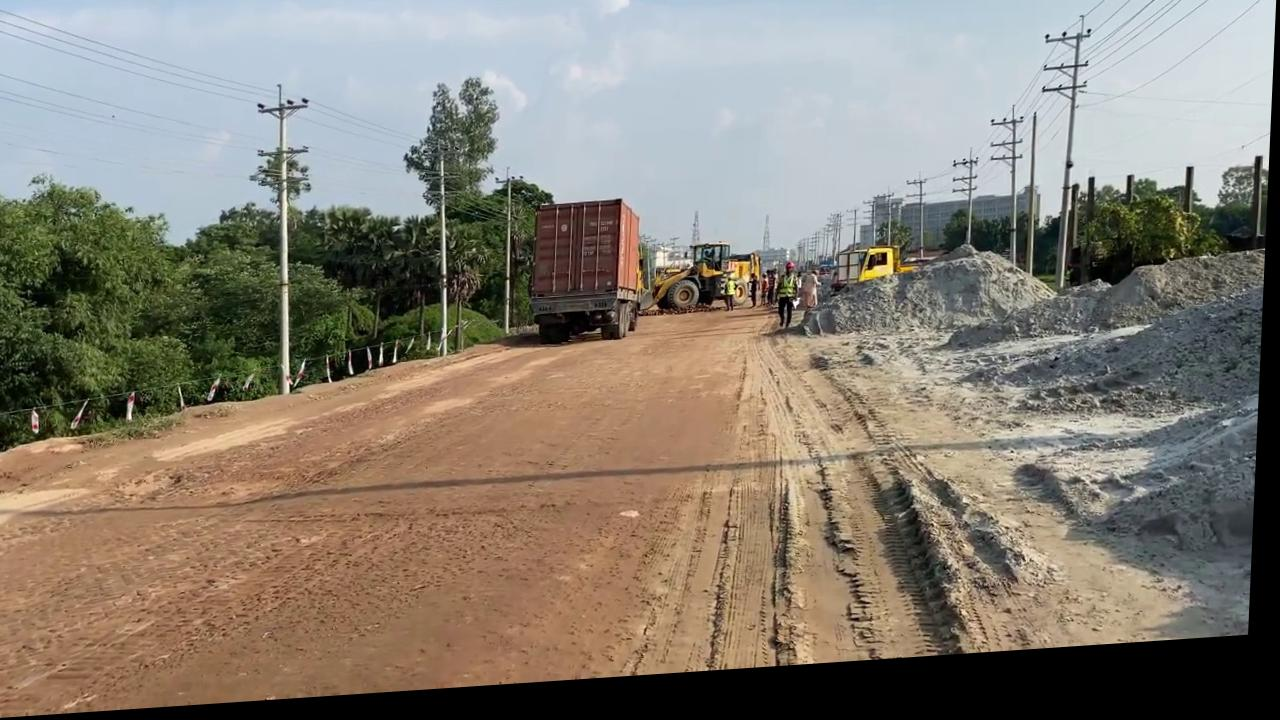Light-pole: (248, 85, 312, 400)
Obstacle: (529, 204, 647, 354)
Pole: (433, 161, 459, 364)
Traffic-sign: (0, 164, 199, 451), (397, 80, 502, 364)
Tree: (528, 198, 768, 353), (646, 247, 766, 323), (640, 244, 706, 322), (832, 254, 921, 306), (724, 261, 764, 319)
